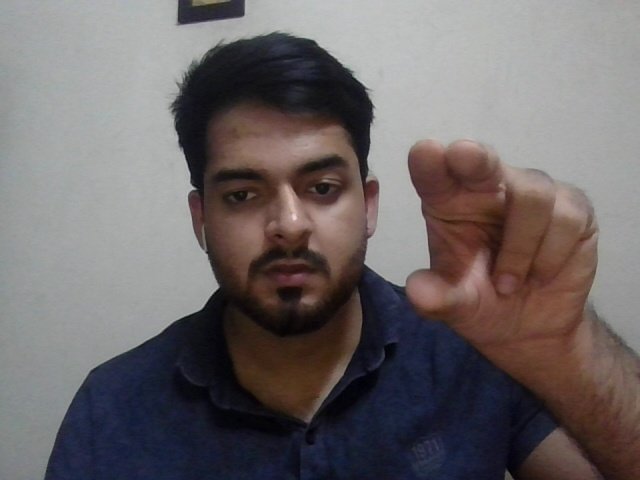no: (406, 137, 600, 341)
